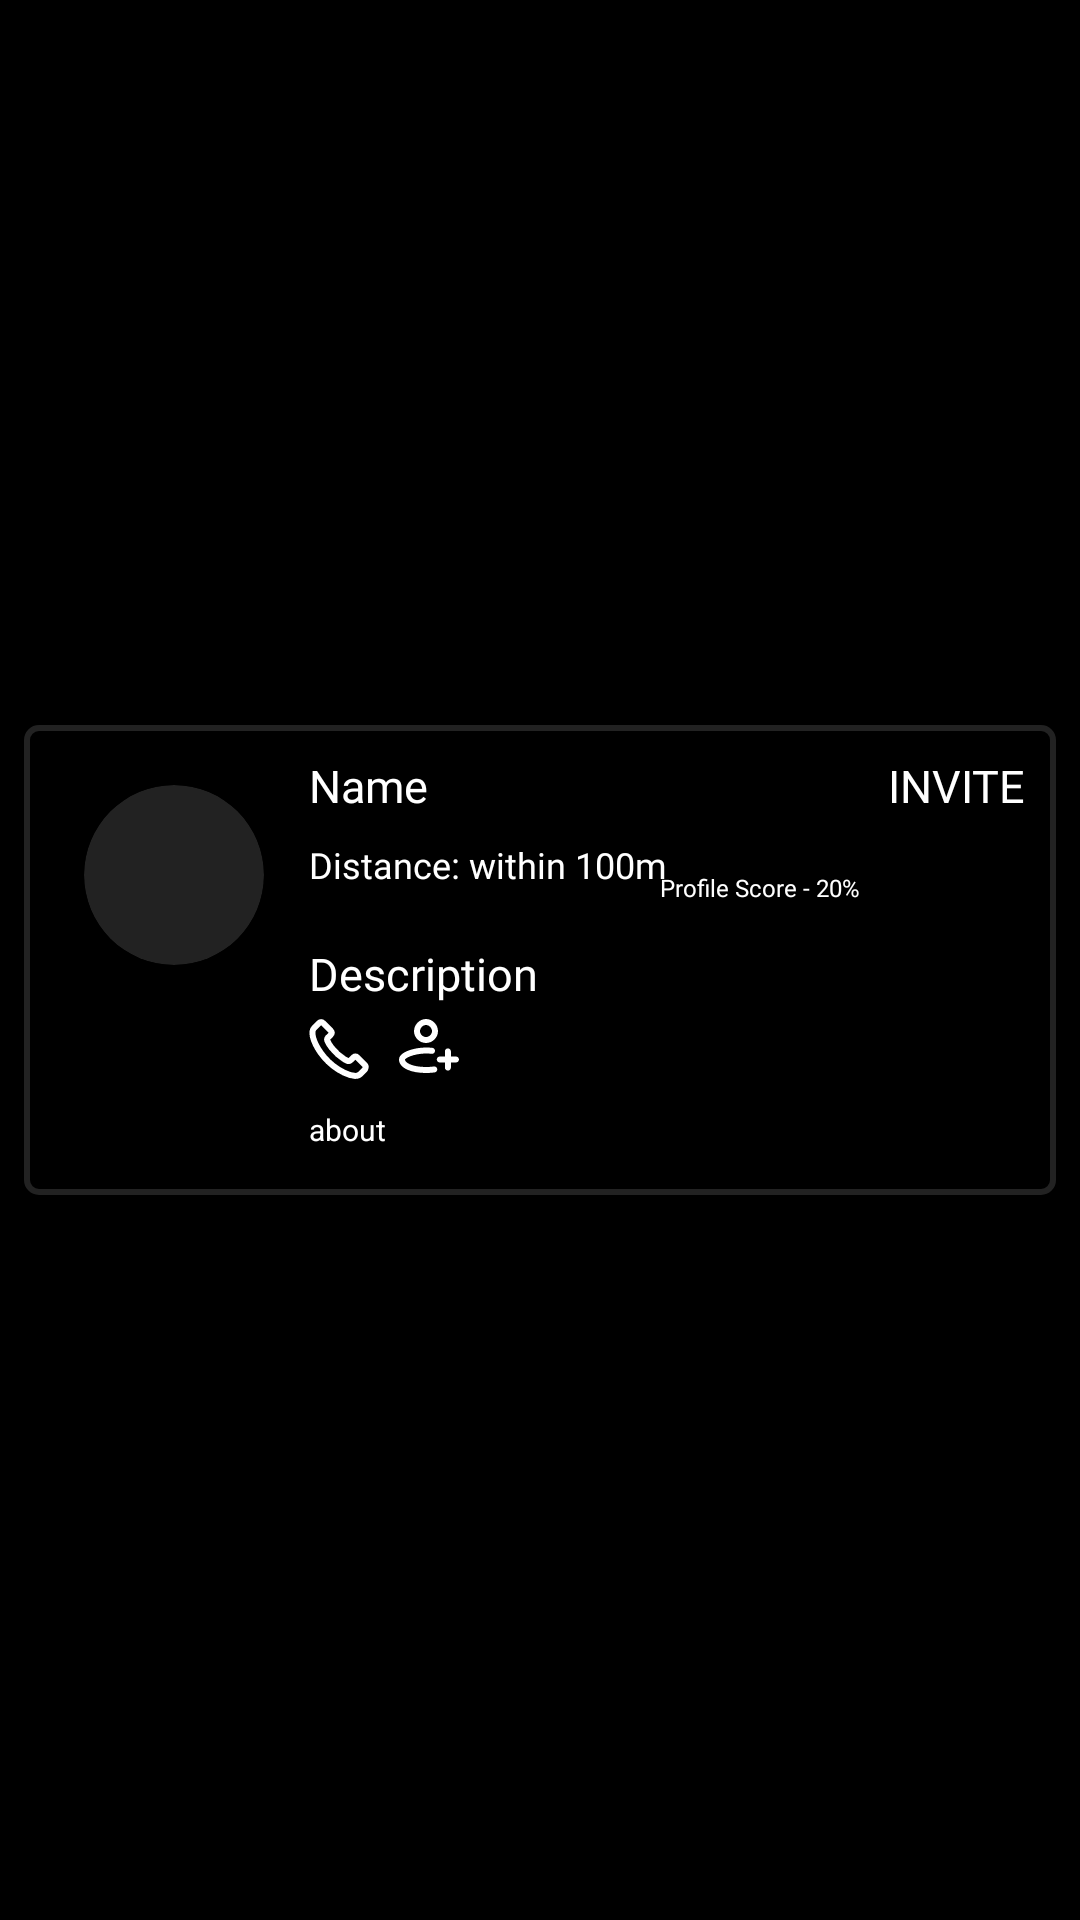

Icon click points for this 1080 x 1920 phone screenshot, format (x=x, y=y):
phone: (x=339, y=1049)
